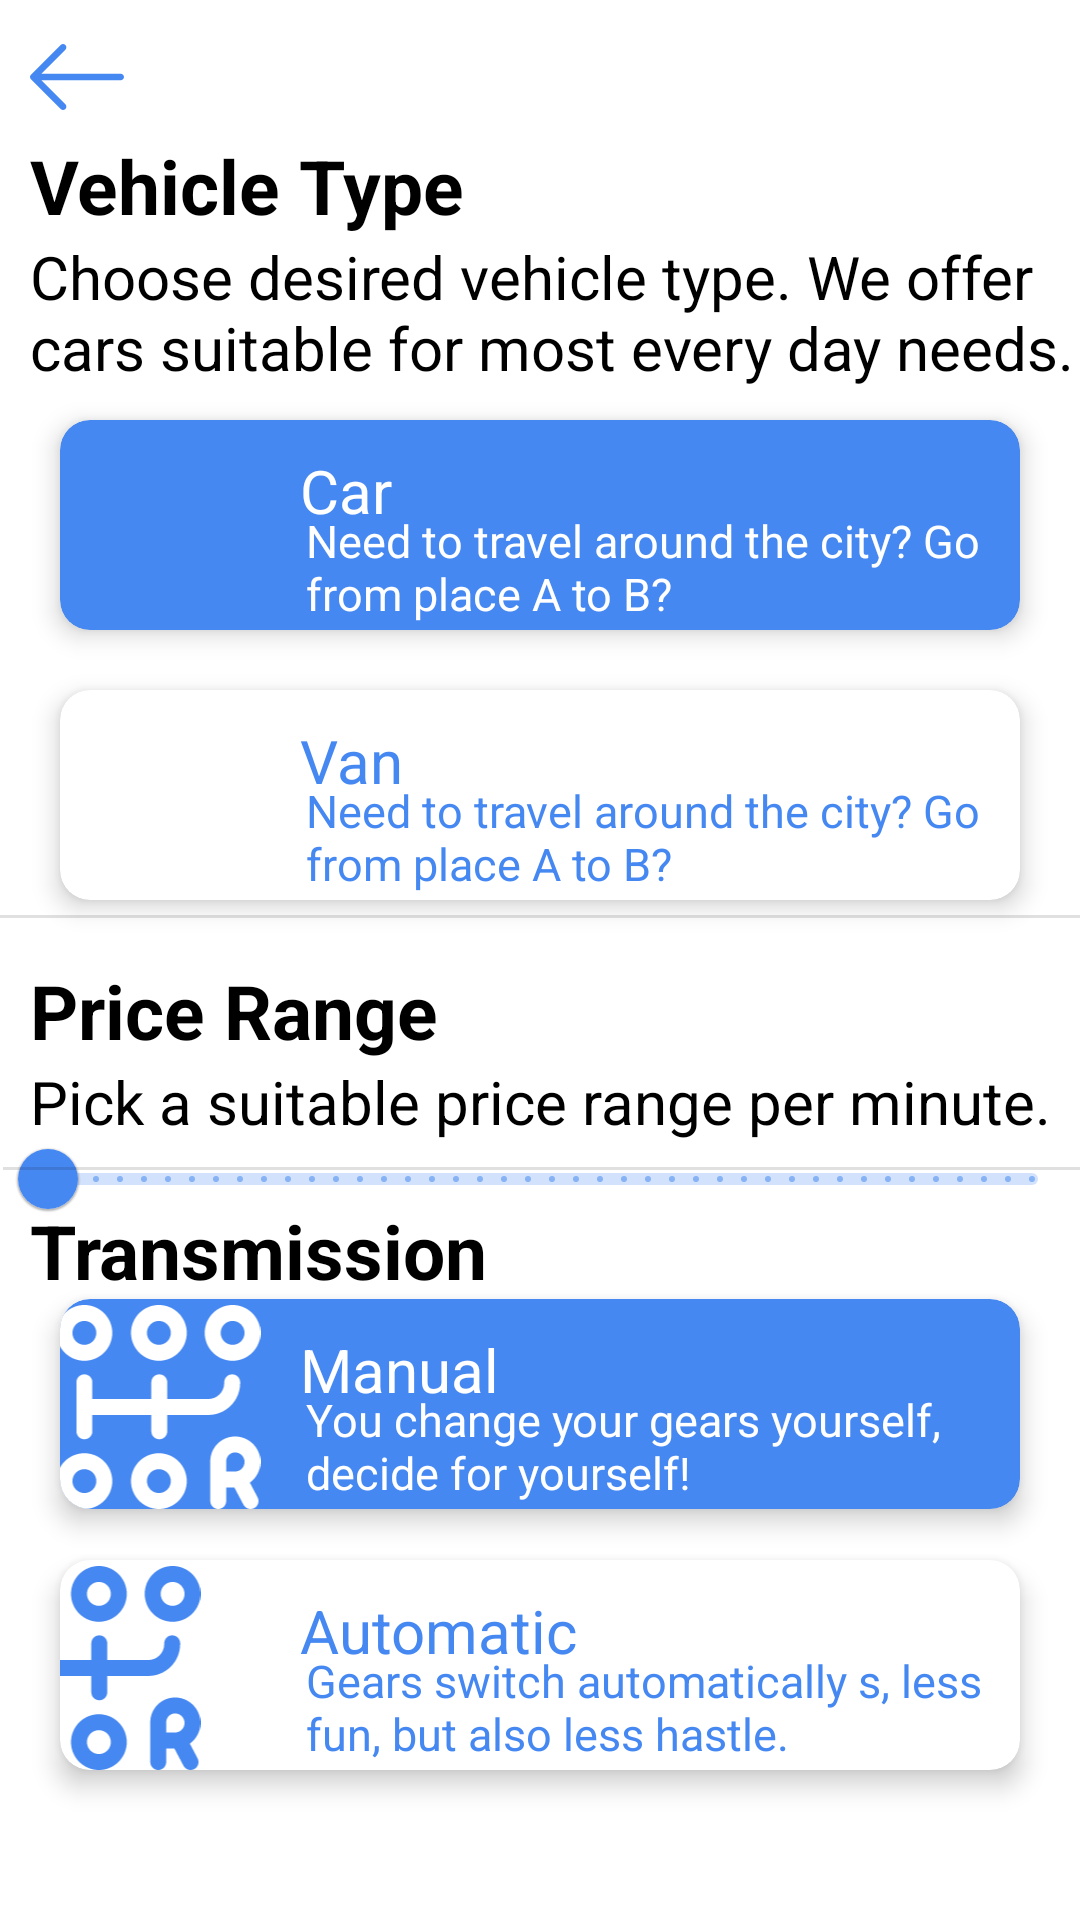

Where to tap for icons on this 1080*1920 app screen, as [x,y]:
left arrow: [77,77]
